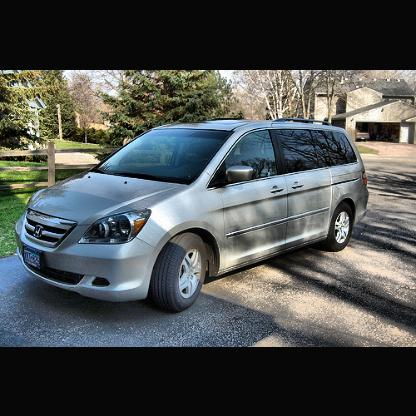Honda Odyssey Minivan 2007: (16, 120, 370, 313)
